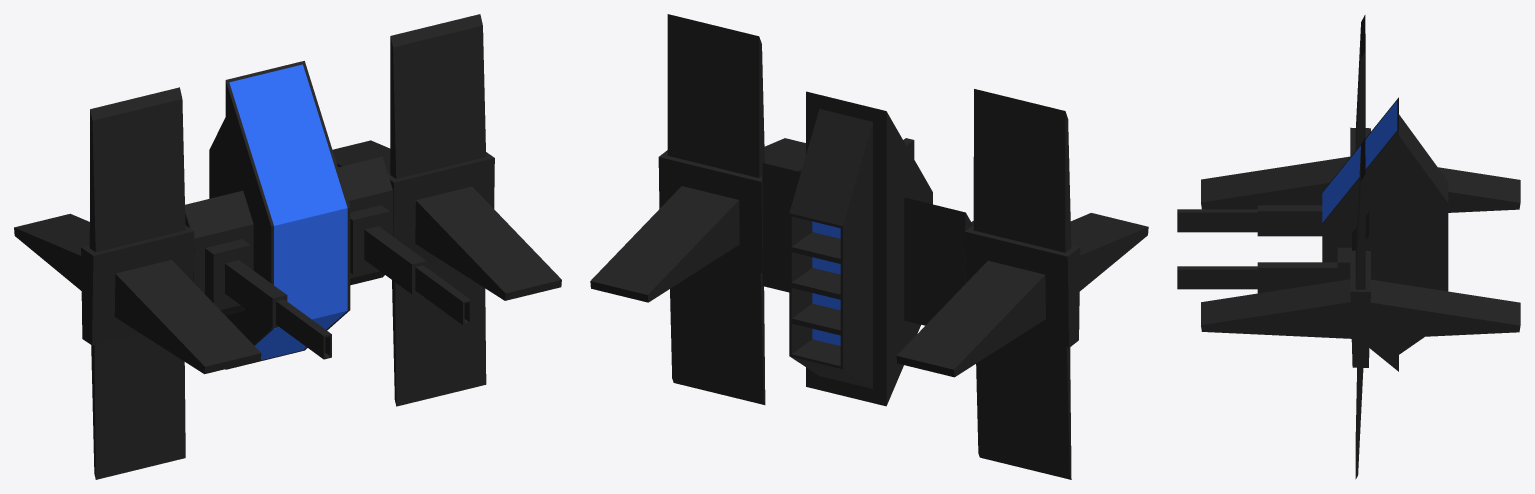
File: Fighter 2.FBX
The picture shows the model from 3 angles, left to right: view 1: azimuth 30°, elevation 25°; view 2: azimuth 150°, elevation 25°; view 3: azimuth 270°, elevation 25°; orthographic projection. The views are drawn at different scales.
Visible parts, largest first — view 1: Fighter 2; view 2: Fighter 2; view 3: Fighter 2.
Boxes of the visible parts, bbox=[...] form: Fighter 2: bbox=[14, 14, 561, 479]; Fighter 2: bbox=[590, 14, 1148, 479]; Fighter 2: bbox=[1177, 15, 1520, 479].
Size of the model in its own units: 10.15 by 8.85 by 8.98.
